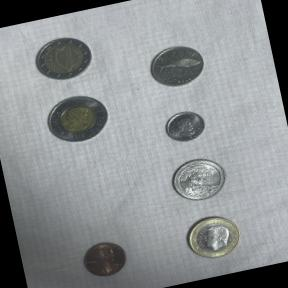coin: (35, 84, 122, 154), (24, 26, 102, 92), (141, 35, 214, 97), (178, 206, 249, 266), (164, 148, 235, 208), (76, 234, 134, 282), (156, 103, 213, 150)
